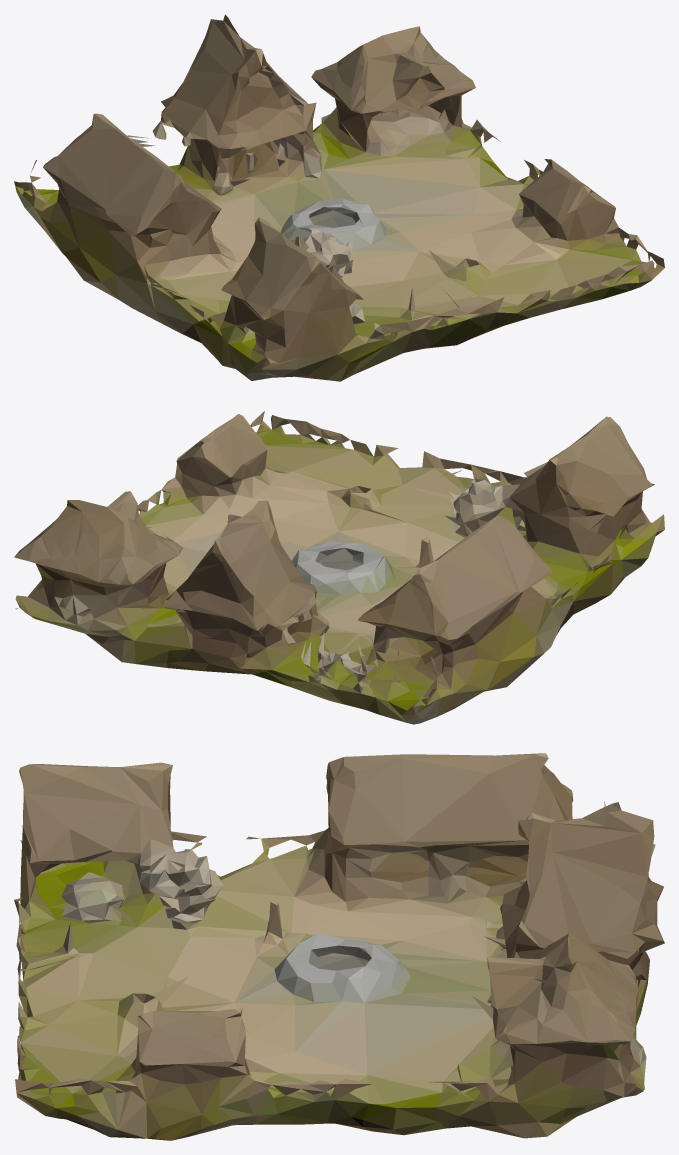
File: orc_town.glb
3 renders of one model, top to bottom at view 1: azimuth 30°, elevation 25°; view 2: azimuth 150°, elevation 25°; view 3: azimuth 270°, elevation 25°, orthographic. The views are drawn at different scales.
Parts seen in each view (by area): view 1: geometry_0; view 2: geometry_0; view 3: geometry_0.
Part boxes in pixels (x1,y1,x2,y2): geometry_0: (14, 14, 664, 381); geometry_0: (14, 411, 664, 724); geometry_0: (14, 753, 664, 1140).
Bounding box in the file's own units: 1.74 × 0.6929 × 1.82.
